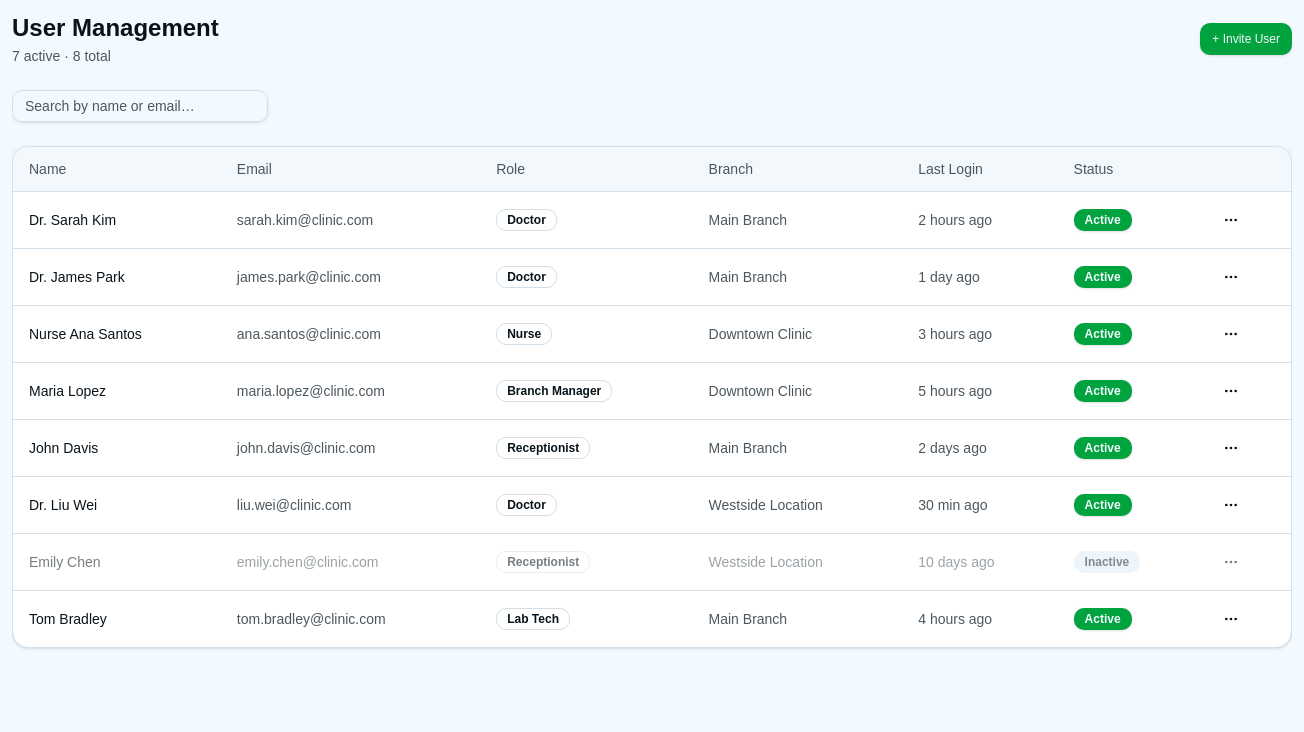
Test: UserManagementPage (CC-88) › Search filters staff by name
The width and height of the screenshot is (1304, 732).
Type "james" into the field labelled "Search by name or email…" at (140, 106), box [12, 90, 268, 122]
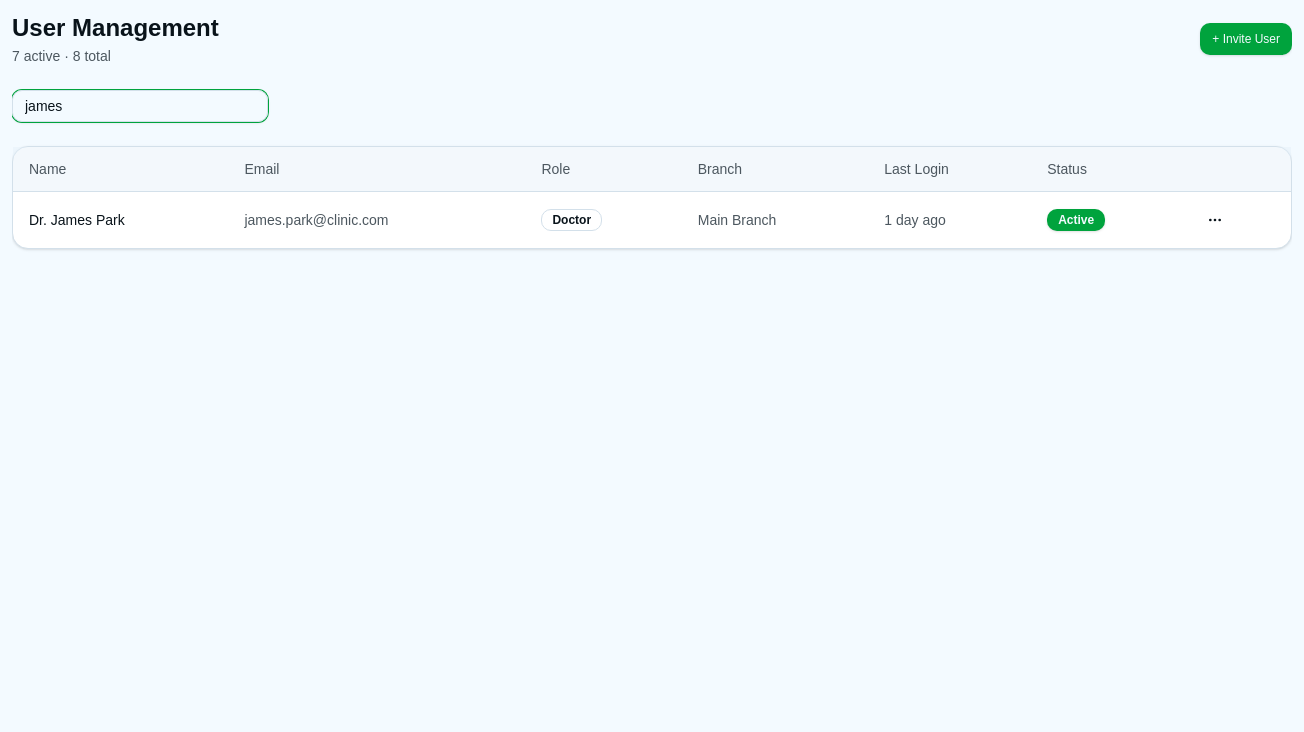
Check: the text "Dr. James Park" is shown, box [13, 192, 228, 248]
Check: the text "Dr. Sarah Kim" is gone
